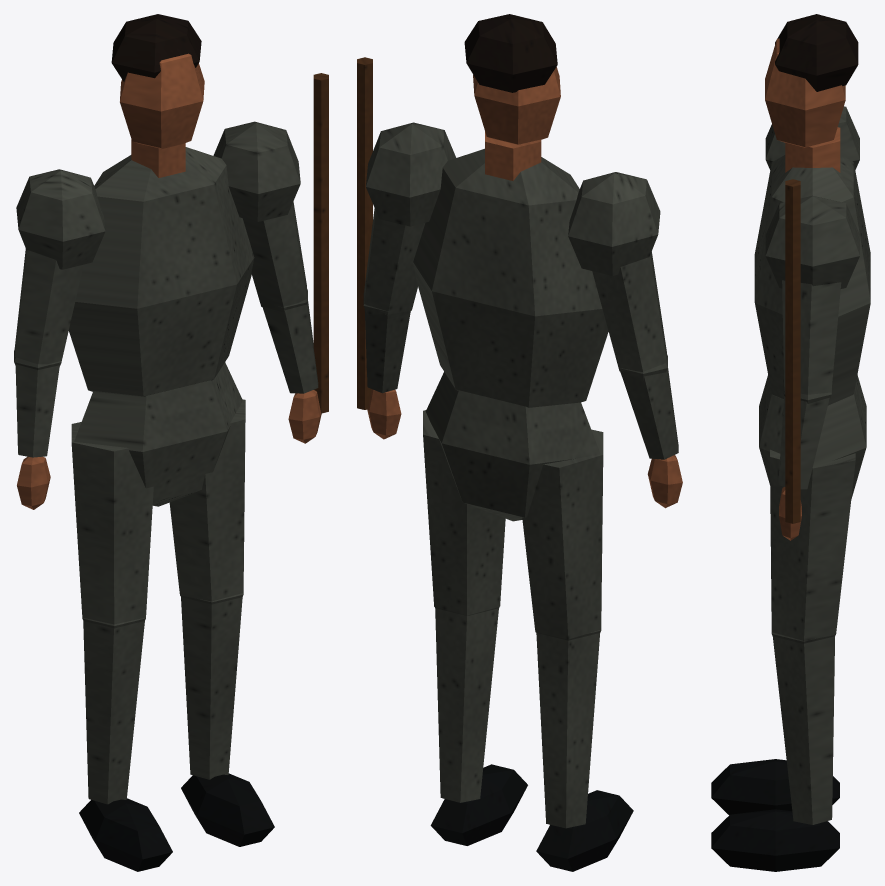
The model's file is PROP-E296DF5CA9A6_lod2.glb.
3 renders of one model, left to right at view 1: azimuth 30°, elevation 25°; view 2: azimuth 150°, elevation 25°; view 3: azimuth 270°, elevation 25°, orthographic. The views are drawn at different scales.
Visible parts, largest first — view 1: torso.039, thigh.038, calf.038, shoulder.039, pelvis.038, upper_arm.039, shoe.038, forearm.039, head.038, flag_pole.001, hair_cap.038, hand.038 (+1 smaller); view 2: torso.039, thigh.038, calf.038, shoulder.039, pelvis.038, upper_arm.039, shoe.038, forearm.039, hair_cap.038, flag_pole.001, head.038, hand.038 (+2 smaller); view 3: thigh.038, torso.039, shoe.038, calf.038, shoulder.039, flag_pole.001, hair_cap.038, head.038, pelvis.038, upper_arm.039, forearm.039, neck.038 (+1 smaller).
Boxes of the visible parts, bbox=[...] form: torso.039: bbox=[68, 147, 254, 396]; thigh.038: bbox=[71, 399, 245, 624]; calf.038: bbox=[83, 597, 242, 804]; shoulder.039: bbox=[16, 121, 300, 269]; pelvis.038: bbox=[74, 362, 242, 506]; upper_arm.039: bbox=[14, 201, 306, 364]; shoe.038: bbox=[79, 773, 274, 871]; forearm.039: bbox=[15, 301, 318, 457]; head.038: bbox=[120, 53, 204, 149]; flag_pole.001: bbox=[313, 73, 328, 413]; hair_cap.038: bbox=[111, 14, 201, 81]; hand.038: bbox=[17, 390, 321, 509]; torso.039: bbox=[413, 148, 608, 407]; thigh.038: bbox=[423, 410, 603, 639]; calf.038: bbox=[435, 608, 599, 828]; shoulder.039: bbox=[366, 122, 660, 275]; pelvis.038: bbox=[425, 372, 600, 521]; upper_arm.039: bbox=[364, 208, 666, 371]; shoe.038: bbox=[430, 764, 633, 871]; forearm.039: bbox=[364, 309, 678, 459]; hair_cap.038: bbox=[464, 14, 557, 92]; flag_pole.001: bbox=[357, 57, 372, 409]; head.038: bbox=[473, 67, 560, 144]; hand.038: bbox=[367, 389, 682, 508]; thigh.038: bbox=[770, 449, 855, 640]; torso.039: bbox=[754, 155, 870, 405]; shoe.038: bbox=[711, 759, 839, 871]; calf.038: bbox=[772, 636, 834, 824]; shoulder.039: bbox=[765, 106, 859, 288]; flag_pole.001: bbox=[785, 179, 800, 523]; hair_cap.038: bbox=[775, 14, 858, 91]; head.038: bbox=[765, 38, 845, 147]; pelvis.038: bbox=[759, 375, 866, 498]; upper_arm.039: bbox=[782, 280, 841, 394]; forearm.039: bbox=[778, 396, 829, 489]; neck.038: bbox=[785, 127, 840, 172].
Size of the model in its own units: 0.738 by 1.84 by 0.3218.
Materials: 5 (5 with a texture image).
